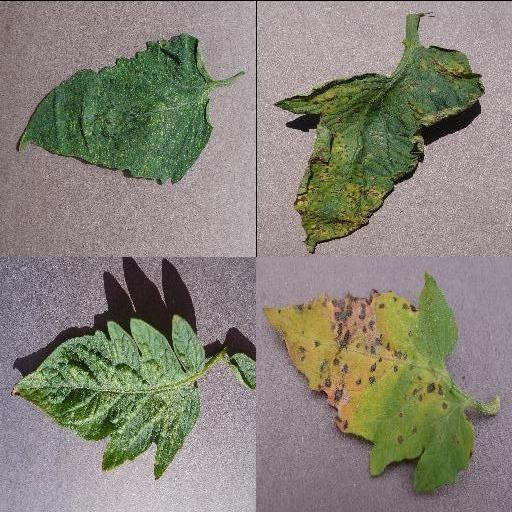Septoria: (262, 271, 476, 490), (274, 45, 482, 253)
Spider Mites: (10, 312, 206, 477), (17, 31, 215, 185)
